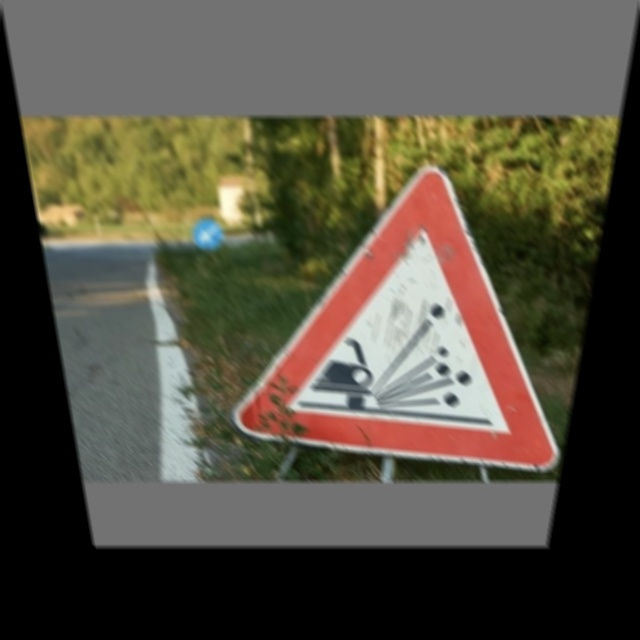Loose_Gravel: (248, 167, 587, 453)
